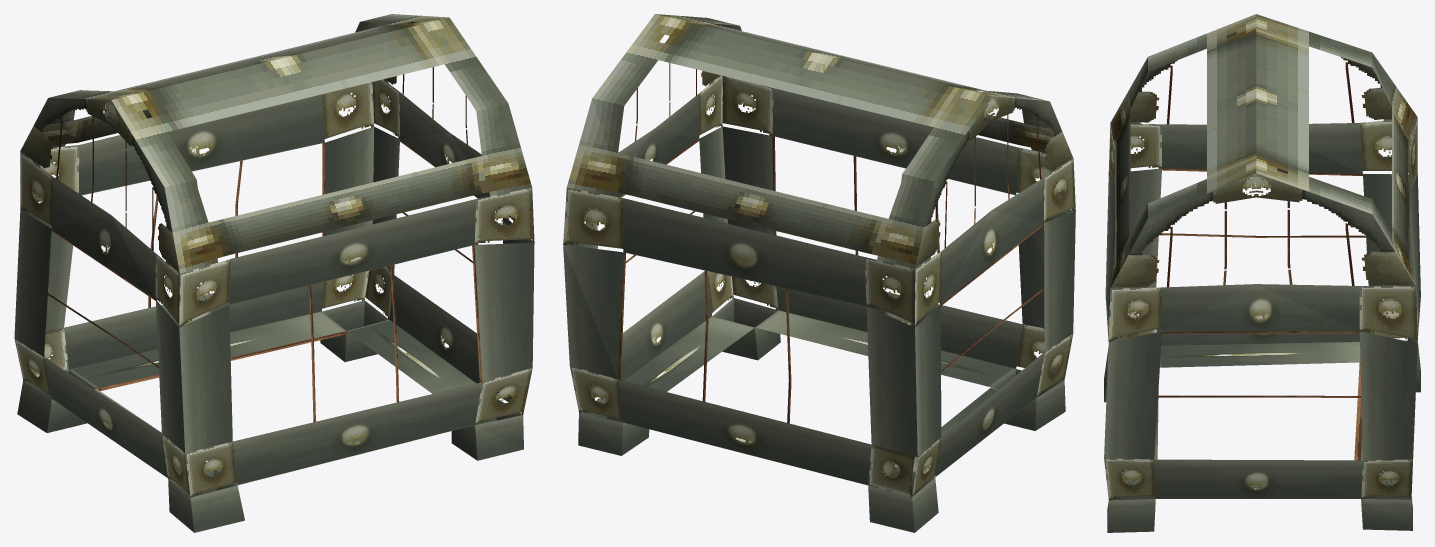
The model's file is crate-wood-lod1.glb.
3 views of the same model, side by side, from view 1: azimuth 30°, elevation 25°; view 2: azimuth 150°, elevation 25°; view 3: azimuth 270°, elevation 25° (orthographic). The views are drawn at different scales.
Visible parts, largest first — view 1: crate-wood-lod1; view 2: crate-wood-lod1; view 3: crate-wood-lod1.
Boxes of the visible parts, x1,y1,x2,y2 form: crate-wood-lod1: (14, 14, 534, 532); crate-wood-lod1: (563, 14, 1075, 532); crate-wood-lod1: (1104, 14, 1420, 532).
Size of the model in its own units: 2.03 by 2.04 by 1.61.
Materials: 6 (6 with a texture image).
